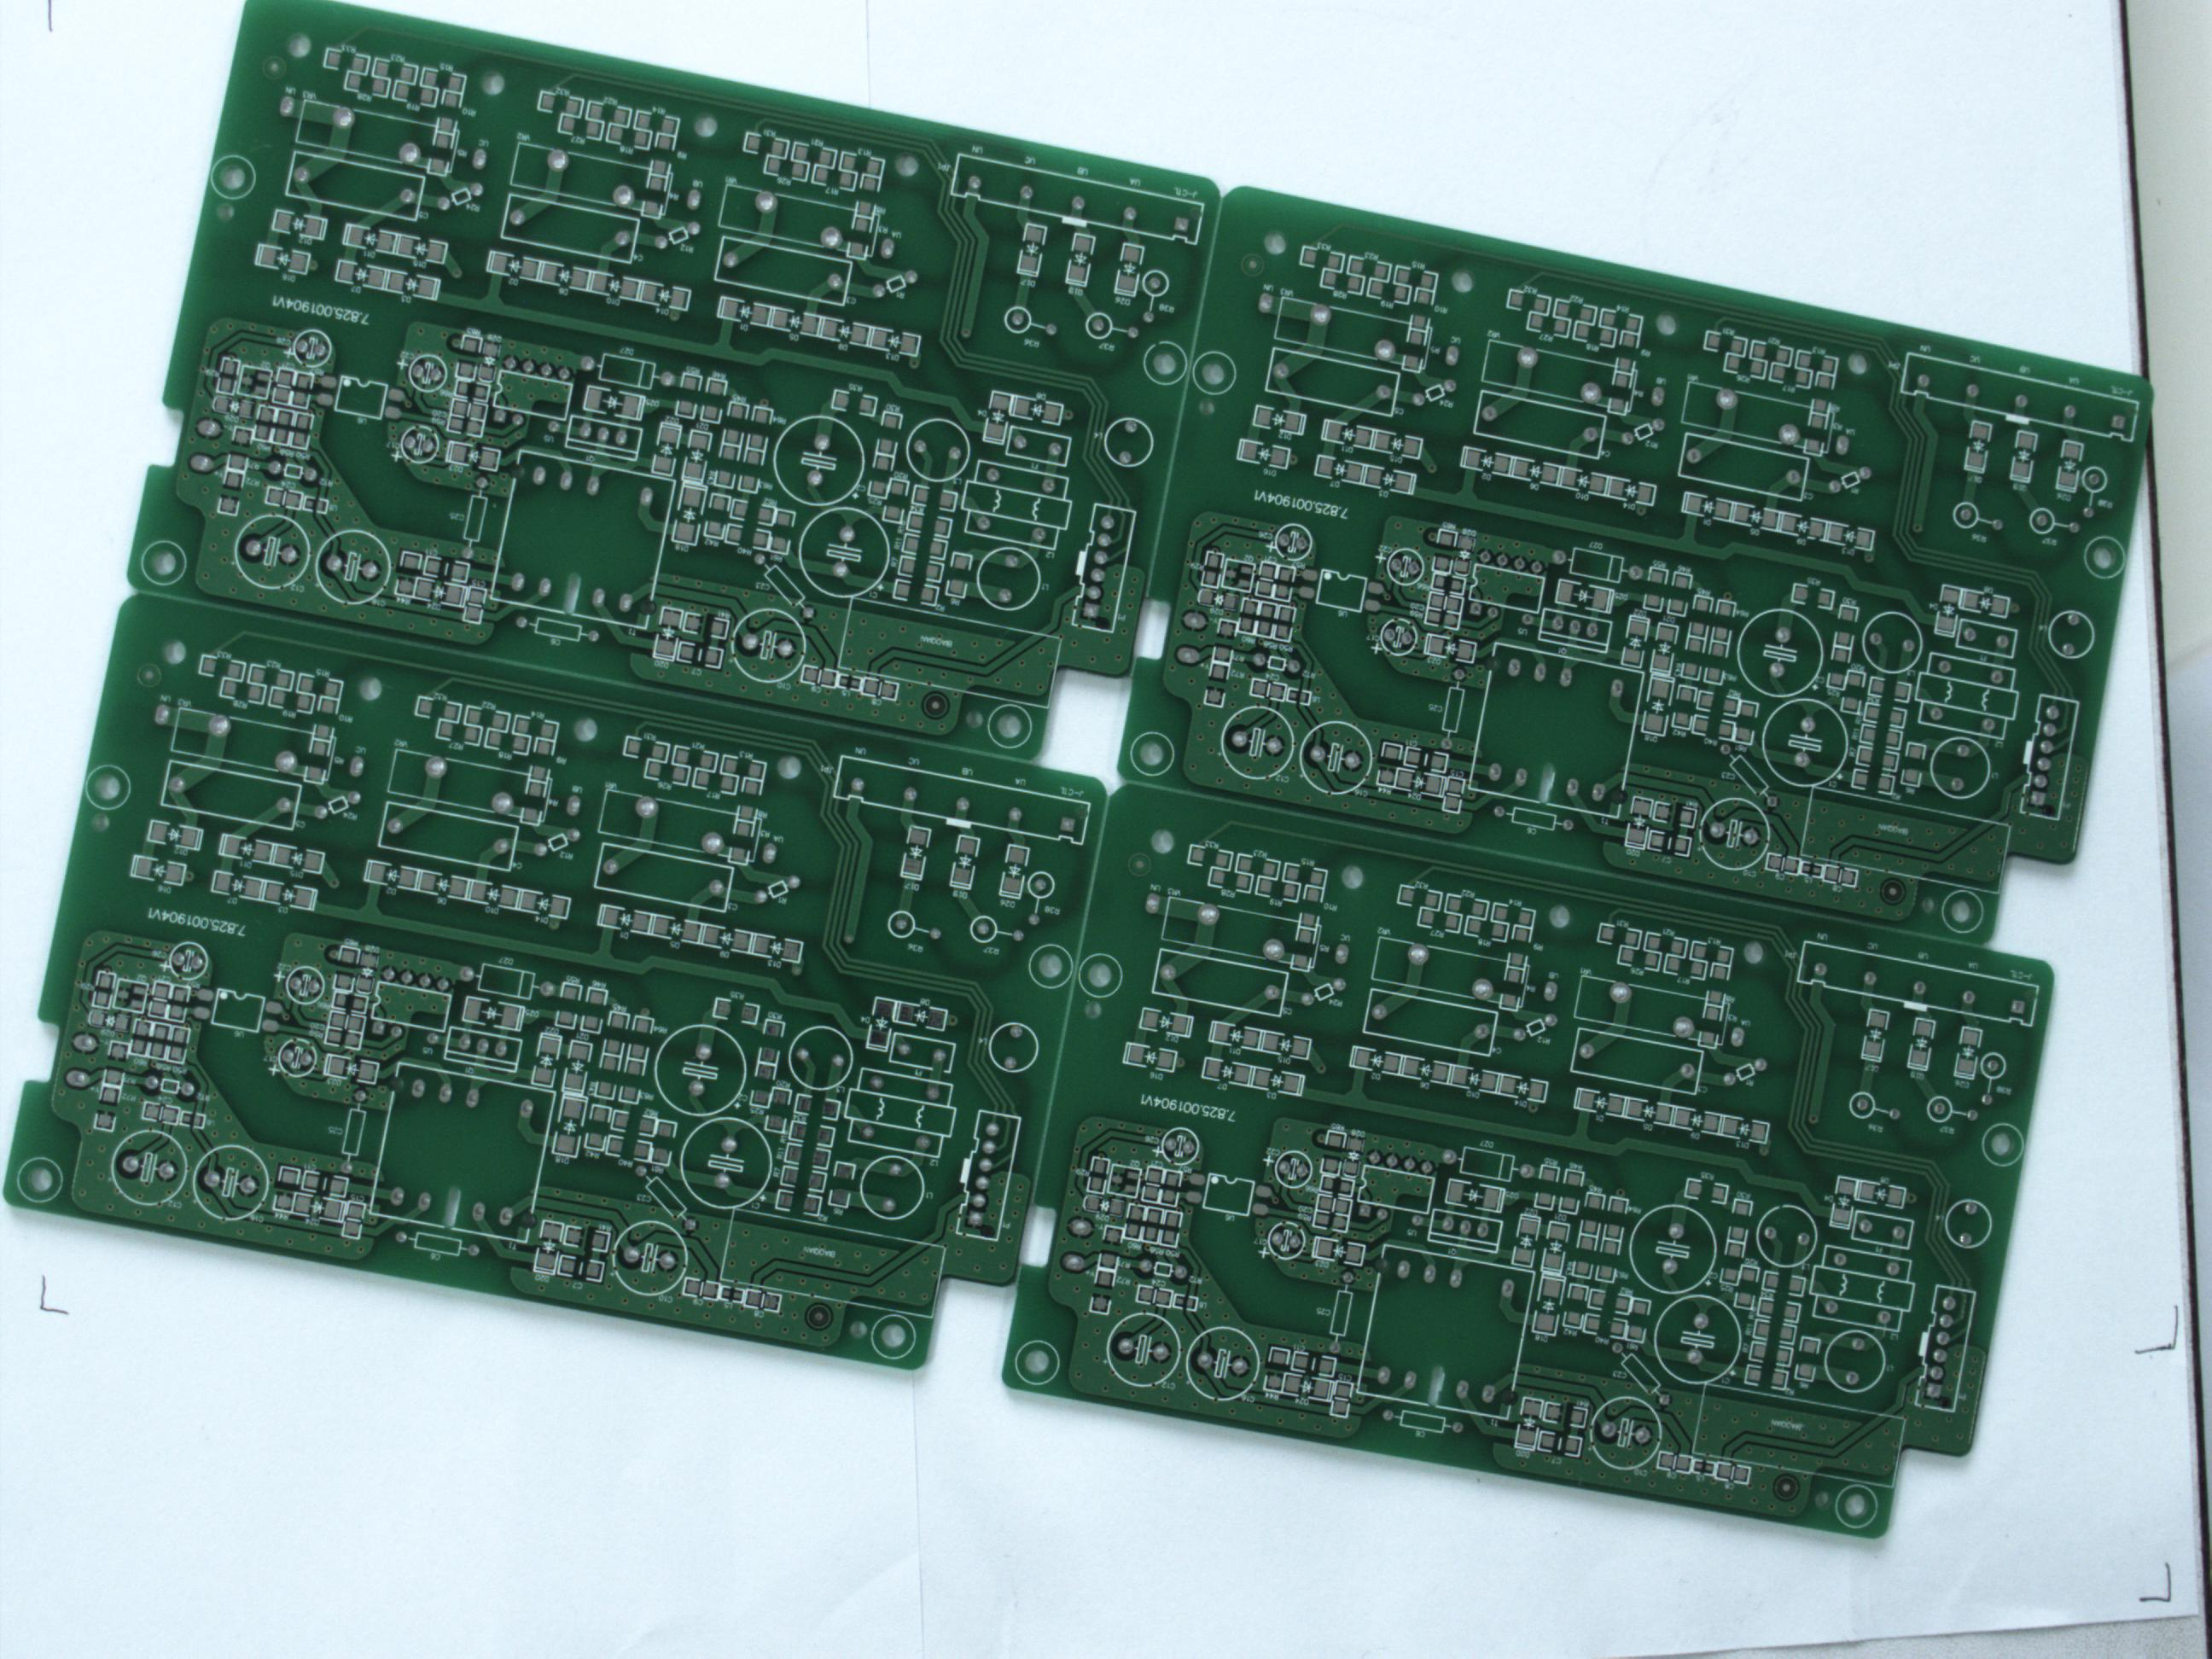ma: (82, 758, 134, 812), (12, 1157, 66, 1208), (138, 538, 192, 589), (1831, 1483, 1883, 1534), (1014, 1337, 1062, 1389), (1076, 950, 1125, 1000), (1141, 338, 1190, 389), (869, 1314, 918, 1364), (211, 153, 260, 204), (1939, 887, 1987, 936), (1129, 730, 1177, 779), (984, 702, 1035, 749), (1028, 941, 1075, 992), (1191, 347, 1238, 396), (1982, 1119, 2027, 1169), (2081, 533, 2128, 580)
